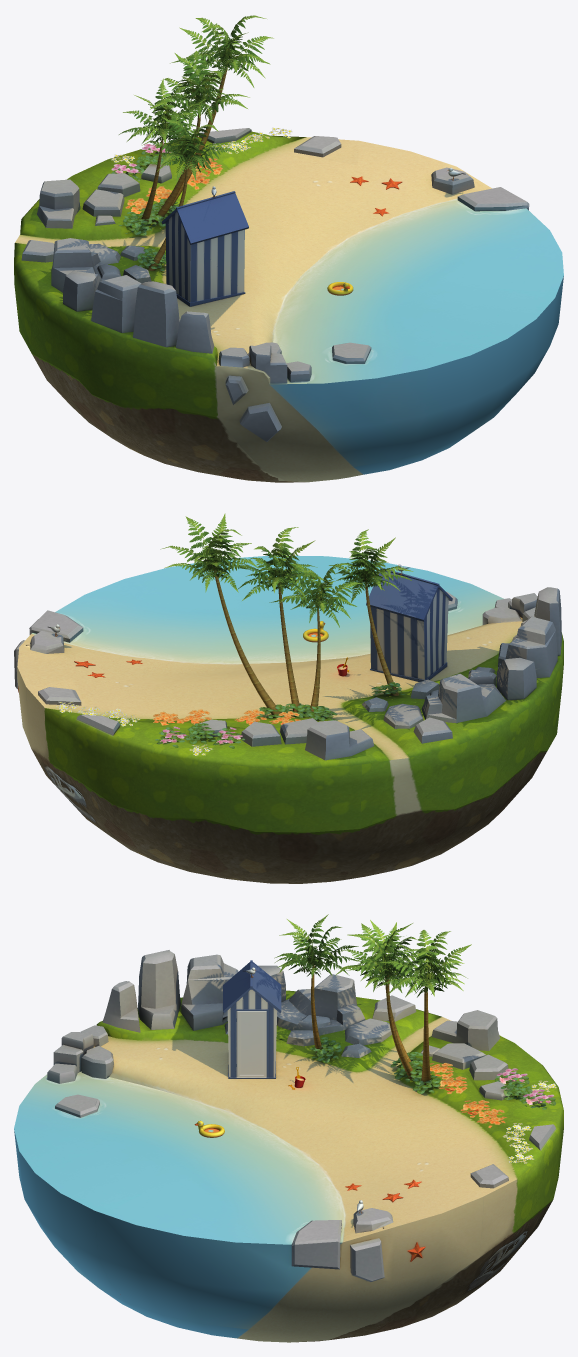
File: beachplanet.dae
The picture shows the model from 3 angles, top to bottom: view 1: azimuth 30°, elevation 25°; view 2: azimuth 150°, elevation 25°; view 3: azimuth 270°, elevation 25°; orthographic projection.
Visible parts, largest first — view 1: background, cabine, leaves03, leaves02, leaves005, leaves01, tronc005, assarum002, fleursOranges, game_roc, fleursBlanches, fleursRoses001; view 2: background, cabine, leaves03, tronc005, leaves02, leaves01, leaves005, assarum002, fleursOranges, fleursRoses001, fleursBlanches, game_roc; view 3: background, cabine, leaves03, leaves02, leaves005, CabineDoor, assarum002, tronc005, fleursOranges, leaves01, fleursRoses001, fleursBlanches (+1 smaller).
Part boxes in pixels (x1,y1,x2,y2): background: [14, 128, 563, 482]; cabine: [161, 191, 248, 306]; leaves03: [170, 15, 273, 87]; leaves02: [156, 50, 249, 127]; leaves005: [142, 111, 239, 184]; leaves01: [119, 78, 205, 144]; tronc005: [141, 61, 228, 270]; assarum002: [119, 156, 179, 270]; fleursOranges: [125, 158, 222, 213]; game_roc: [294, 136, 341, 157]; fleursBlanches: [111, 127, 292, 164]; fleursRoses001: [111, 143, 174, 180]; background: [14, 555, 563, 883]; cabine: [366, 567, 452, 681]; leaves03: [160, 513, 258, 592]; tronc005: [214, 567, 398, 717]; leaves02: [234, 527, 330, 600]; leaves01: [269, 563, 362, 627]; leaves005: [329, 529, 413, 602]; assarum002: [185, 682, 405, 744]; fleursOranges: [153, 709, 300, 725]; fleursRoses001: [155, 726, 244, 748]; fleursBlanches: [56, 701, 212, 755]; game_roc: [38, 687, 81, 705]; background: [14, 950, 563, 1342]; cabine: [223, 960, 281, 1078]; leaves03: [376, 930, 471, 997]; leaves02: [335, 920, 441, 993]; leaves005: [274, 914, 360, 977]; CabineDoor: [236, 1011, 266, 1077]; assarum002: [310, 1037, 532, 1100]; tronc005: [311, 964, 430, 1084]; fleursOranges: [429, 1062, 506, 1127]; leaves01: [338, 922, 418, 992]; fleursRoses001: [494, 1068, 556, 1109]; fleursBlanches: [502, 1080, 556, 1163].
Bounding box in the file's own units: 594 × 589 × 436.
17 materials, 17 textured.
